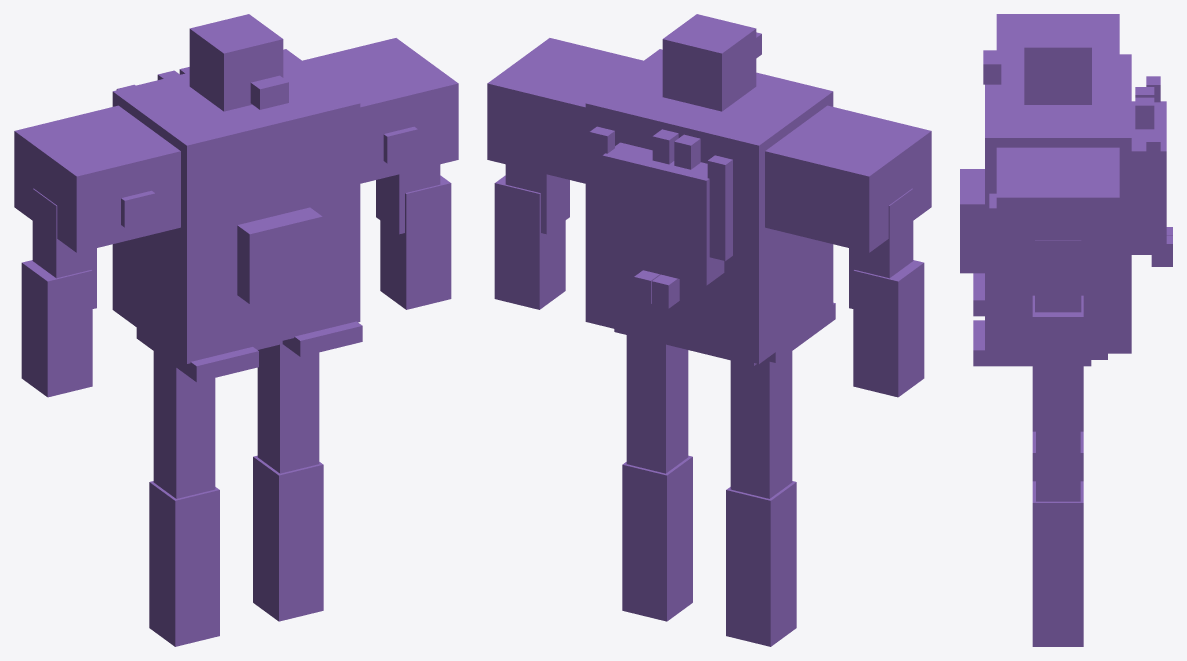
The model's file is mechfall_kaldatoah.obj.
The picture shows the model from 3 angles, left to right: view 1: azimuth 30°, elevation 25°; view 2: azimuth 150°, elevation 25°; view 3: azimuth 270°, elevation 25°; orthographic projection.
Visible parts, largest first — view 1: mechfall_kaldatoah; view 2: mechfall_kaldatoah; view 3: mechfall_kaldatoah.
Part boxes in pixels (x1,y1,x2,y2): mechfall_kaldatoah: (14, 14, 458, 646); mechfall_kaldatoah: (487, 14, 931, 646); mechfall_kaldatoah: (960, 14, 1172, 646).
Size of the model in its own units: 6.3 by 8.74 by 2.92.
